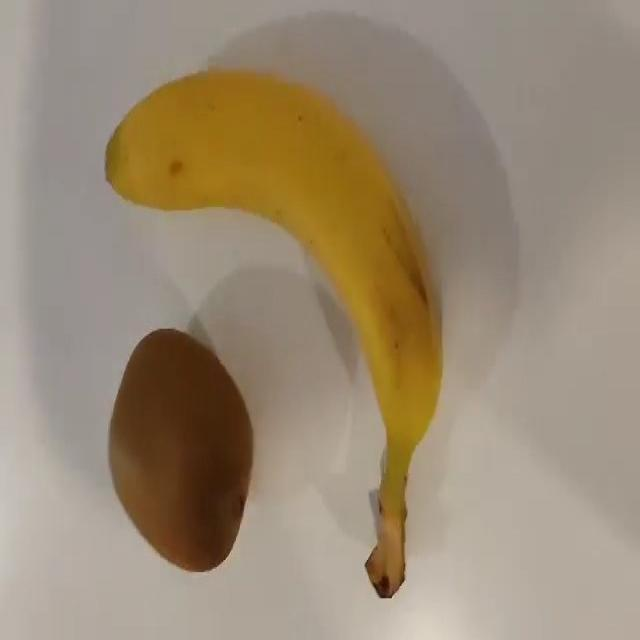Banana: (103, 66, 444, 598)
